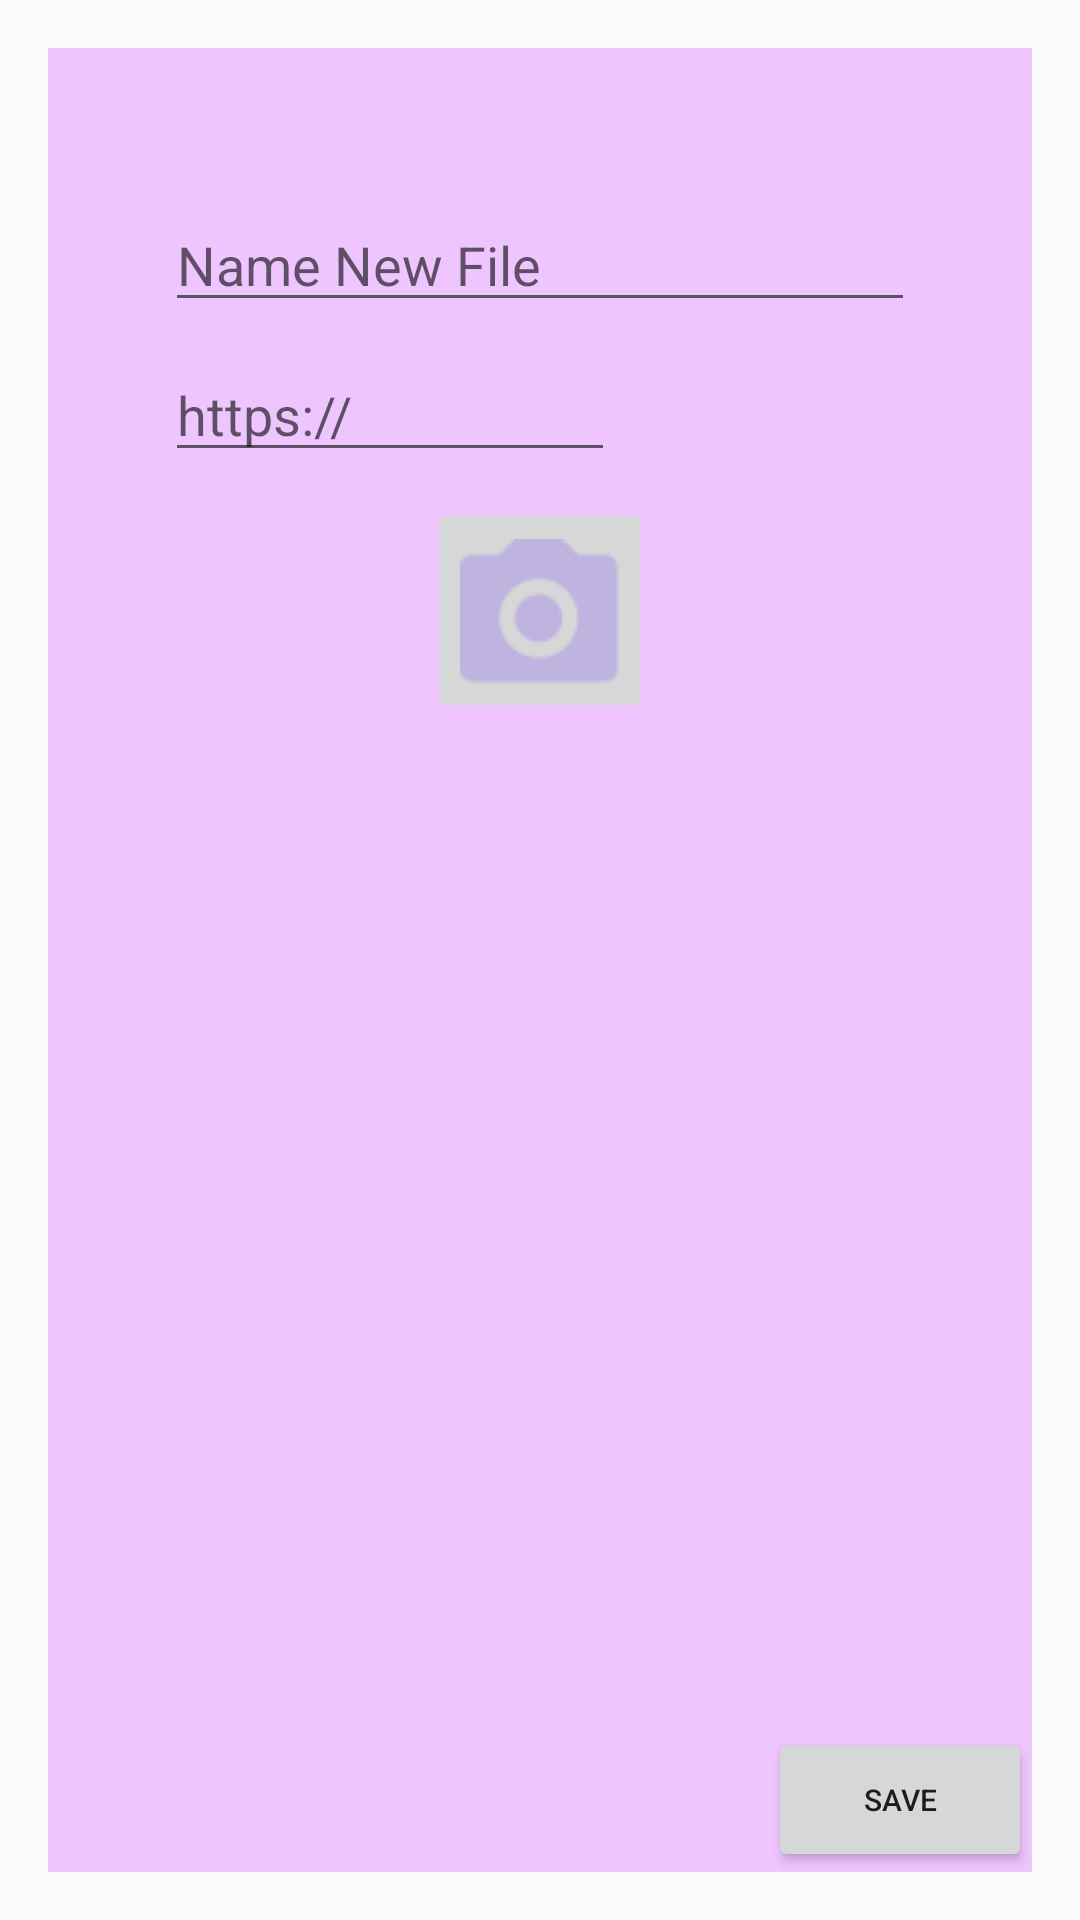

Named icons in this screenshot (1080*1920) and their centers, [x,y]:
camera: [539,610]
